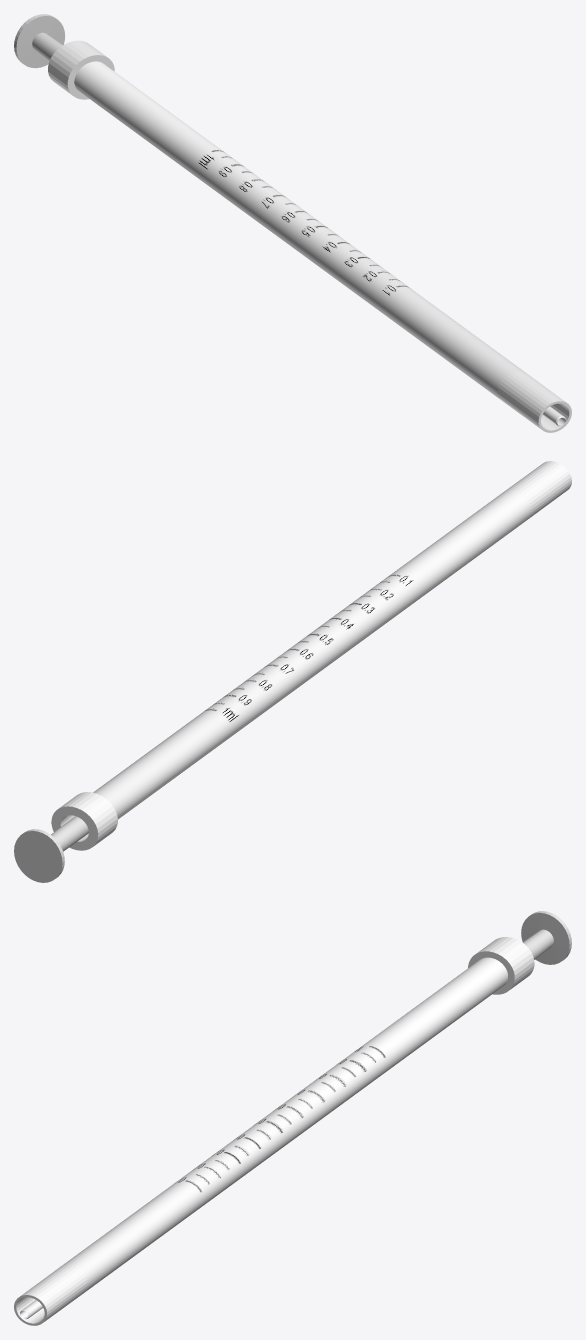
The model's file is 1ml syringe.fbx.
The picture shows the model from 3 angles, top to bottom: view 1: azimuth 30°, elevation 25°; view 2: azimuth 150°, elevation 25°; view 3: azimuth 330°, elevation 25°; orthographic projection.
Parts seen in each view (by area): view 1: syringe .001, insite seringe.001; view 2: syringe .001, insite seringe.001; view 3: syringe .001, insite seringe.001.
Part boxes in pixels (x1,y1,x2,y2): syringe .001: [48, 40, 571, 432]; insite seringe.001: [14, 14, 65, 68]; syringe .001: [51, 461, 571, 850]; insite seringe.001: [14, 816, 88, 882]; syringe .001: [14, 937, 534, 1325]; insite seringe.001: [521, 911, 571, 964].
Bounding box in the file's own units: 0.8101 × 0.7933 × 14.8.
